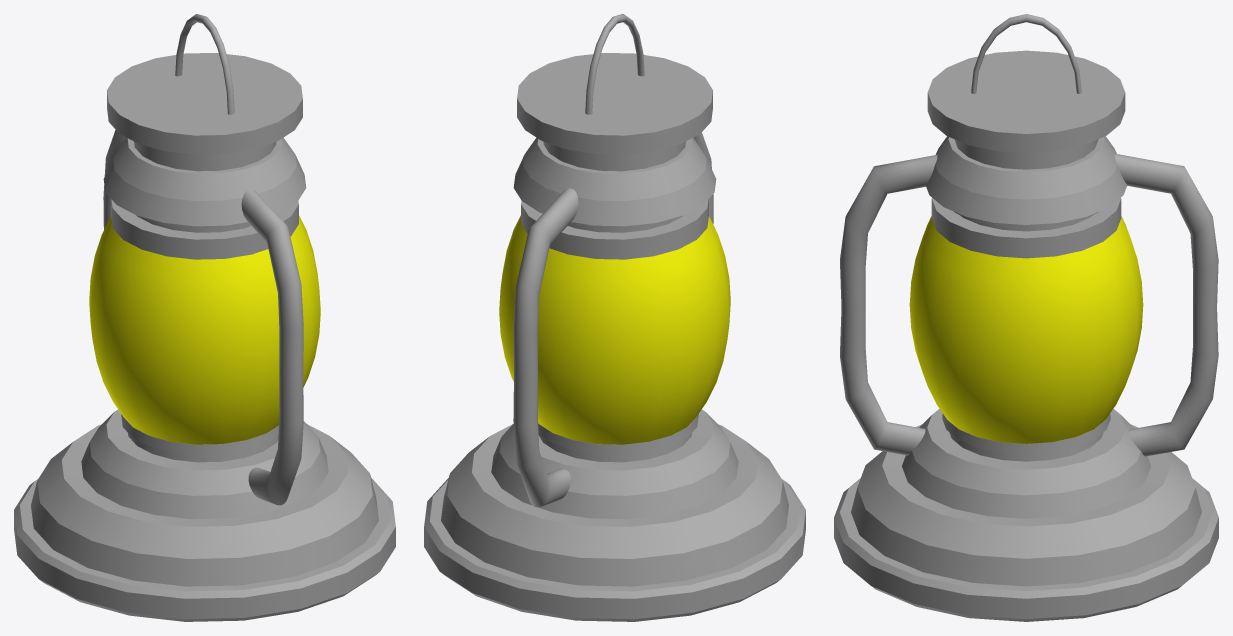
Rendered from lantern.fbx.
3 renders of one model, left to right at view 1: azimuth 30°, elevation 25°; view 2: azimuth 150°, elevation 25°; view 3: azimuth 270°, elevation 25°, orthographic.
Parts seen in each view (by area): view 1: pSphere2; view 2: pSphere2; view 3: pSphere2.
Boxes of the visible parts, <box> form: pSphere2: <box>14,14,395,621</box>; pSphere2: <box>424,14,805,621</box>; pSphere2: <box>834,14,1218,621</box>.
Bounding box in the file's own units: 0.6901 × 1.05 × 0.6901.
